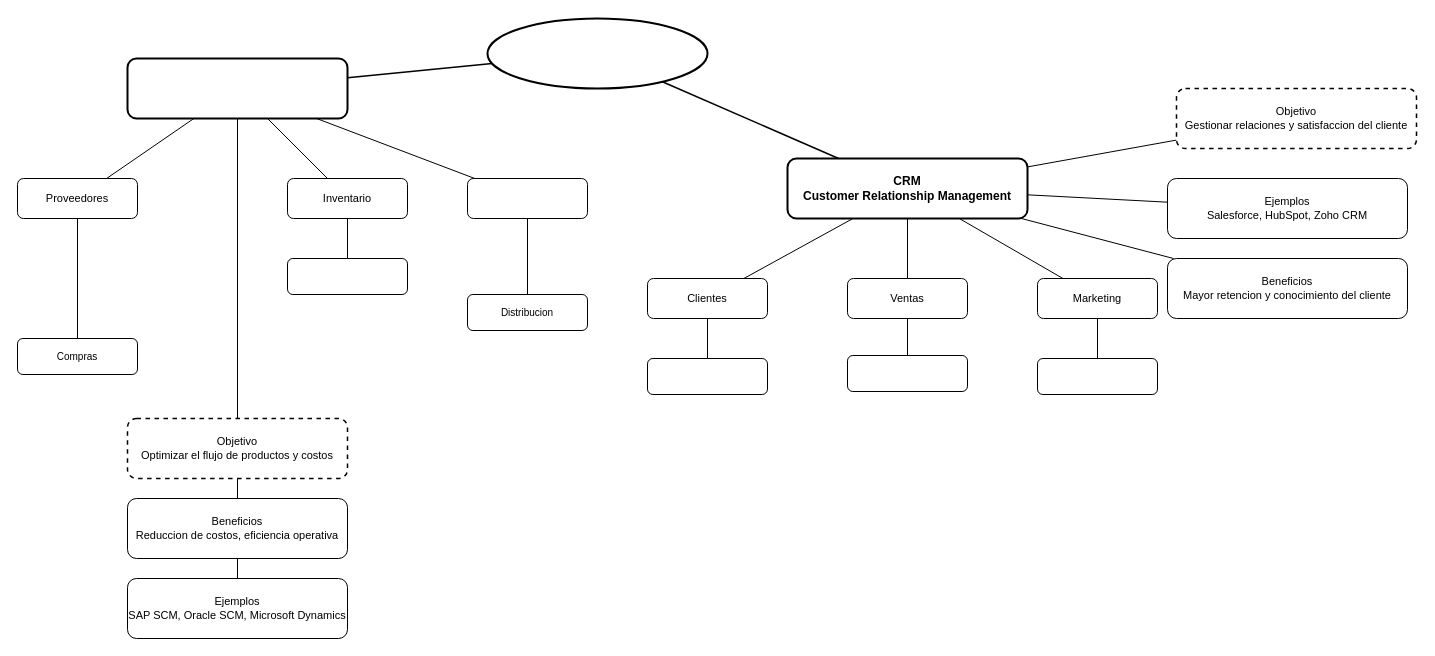
Image size: 1435x656. Some labels were removed from this diagram. Each missing label, with the centre of its shape:
"Almacen" goes at point (347, 276).
"Campanas" goes at point (1097, 376).
"Fidelizacion" goes at point (707, 376).
"Logistica" goes at point (527, 198).
"SCM Supply Chain Management" goes at point (237, 88).
"SCM y CRM Sistemas de Informacion" goes at point (597, 53).
"Seguimiento" goes at point (907, 373).
